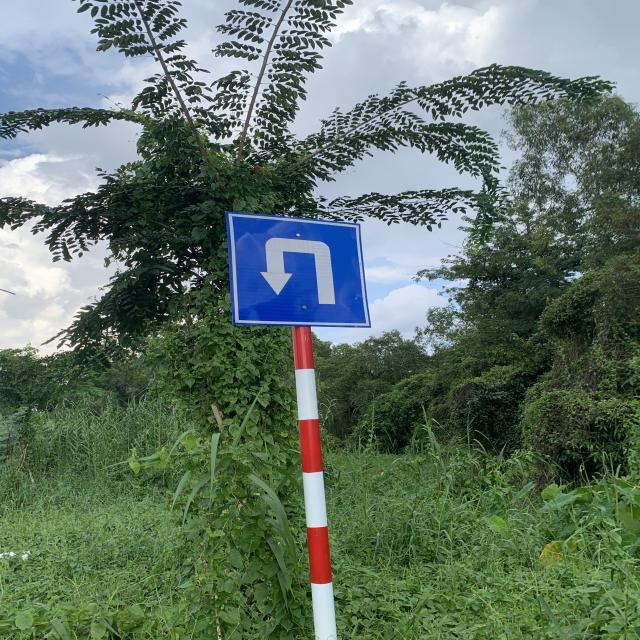Den_Giao_Thong: (234, 216, 370, 327)
